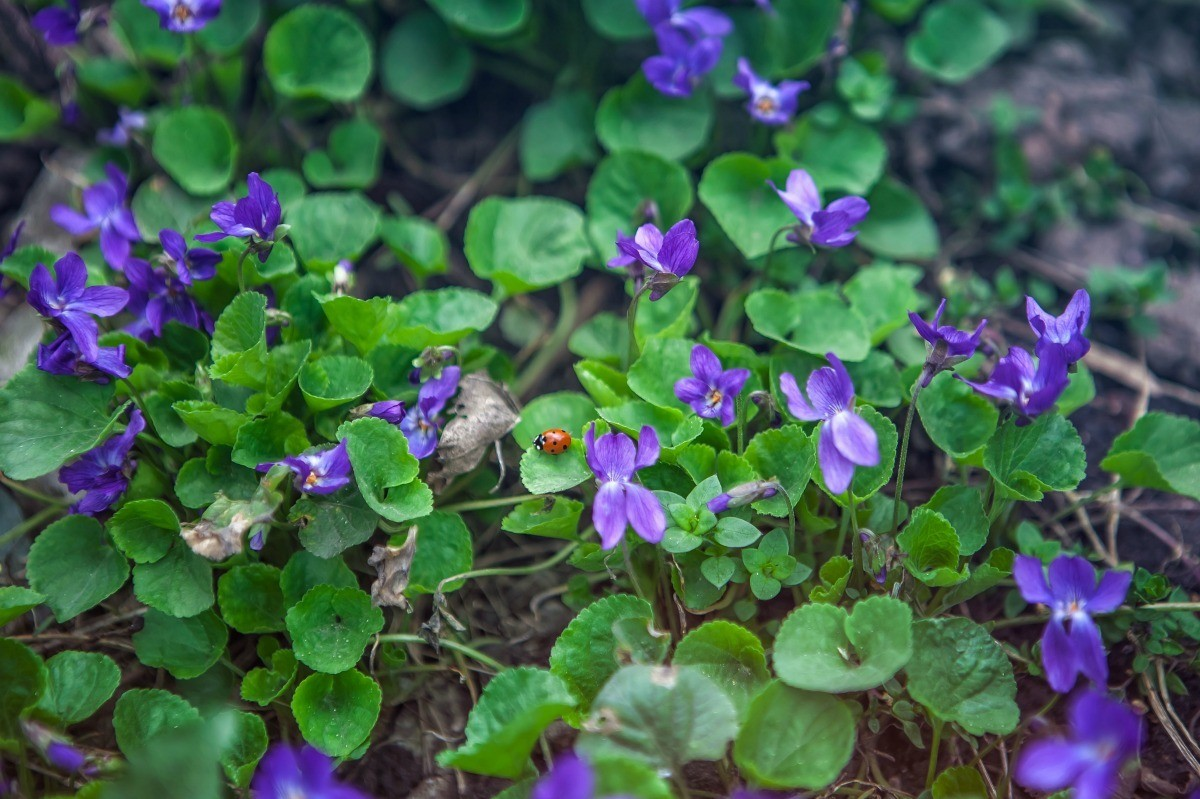violet: (1018, 555, 1163, 799), (911, 296, 1095, 457), (784, 361, 925, 518), (562, 429, 706, 572), (15, 253, 142, 399), (606, 221, 725, 331), (761, 166, 880, 264), (204, 179, 301, 271), (49, 182, 164, 258), (126, 235, 213, 323), (732, 64, 821, 145), (679, 342, 749, 430)
